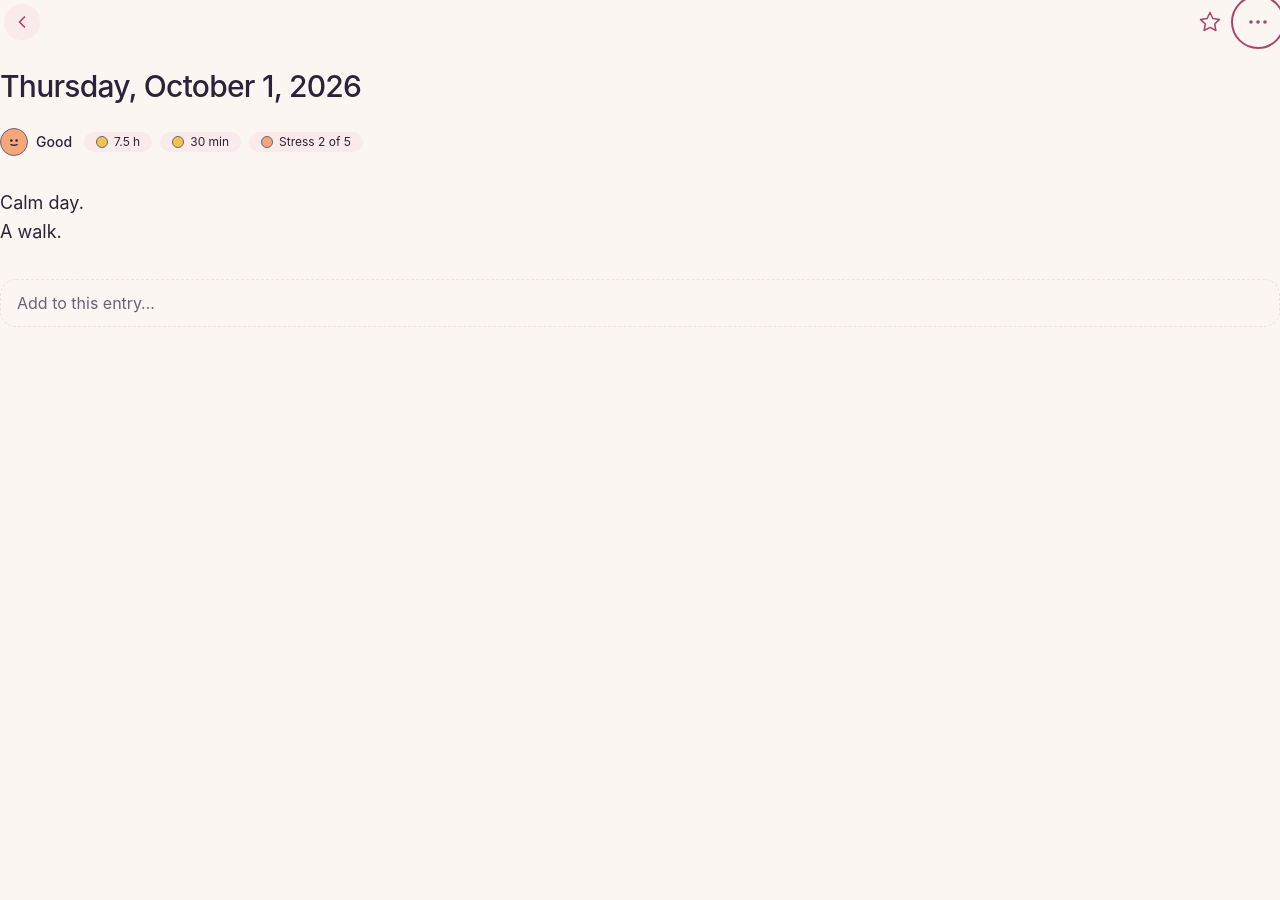
EntryScreen: the view › ⋯ → Delete, then Cancel or Esc: focus is back on ⋯, never on the page (a11y pass, 1.0)
Click the button with test id "entry-more". click: (1258, 22)
box: [1236,0,1279,44]
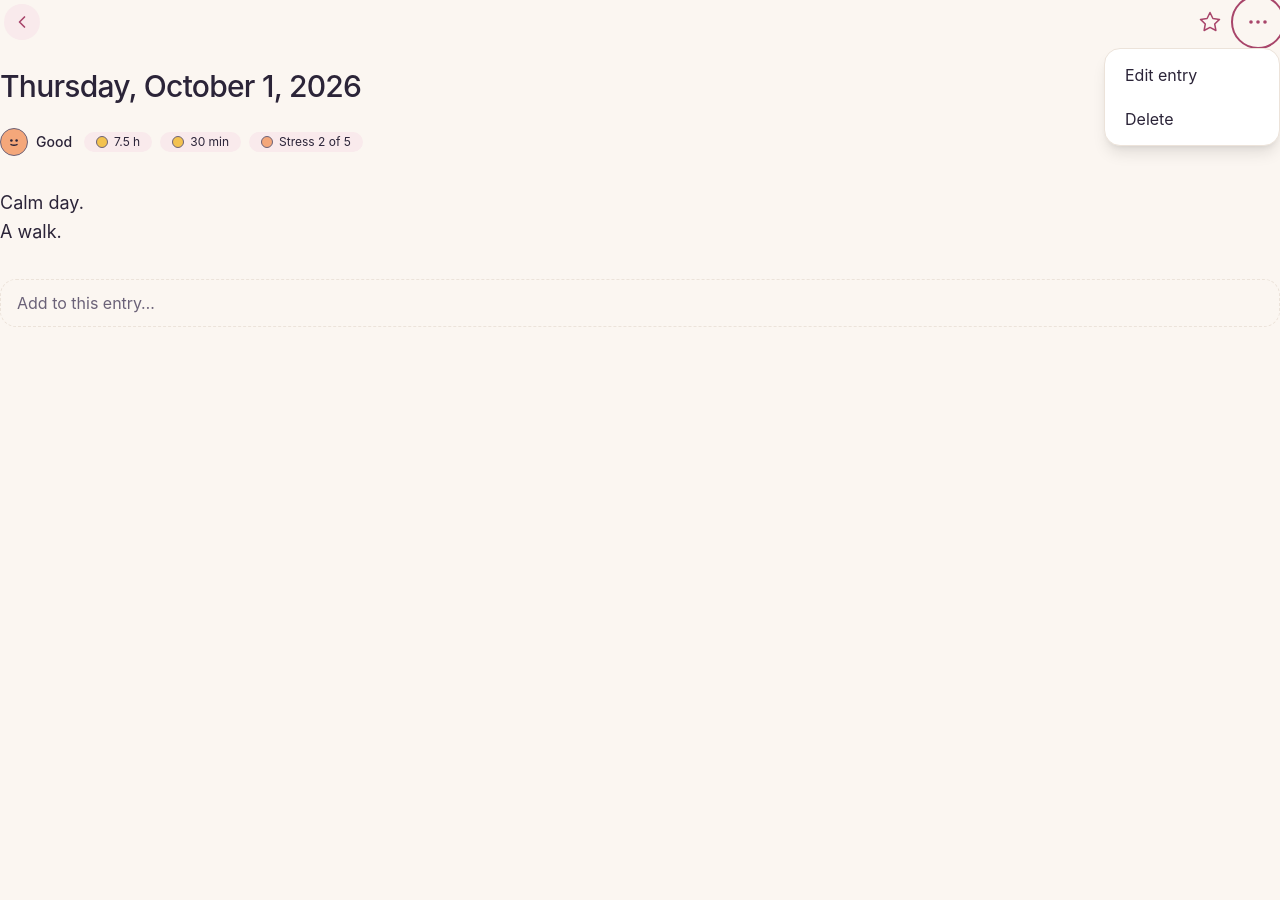
Click the button with test id "entry-menu-delete". click: (1192, 119)
box: [1109,97,1275,141]
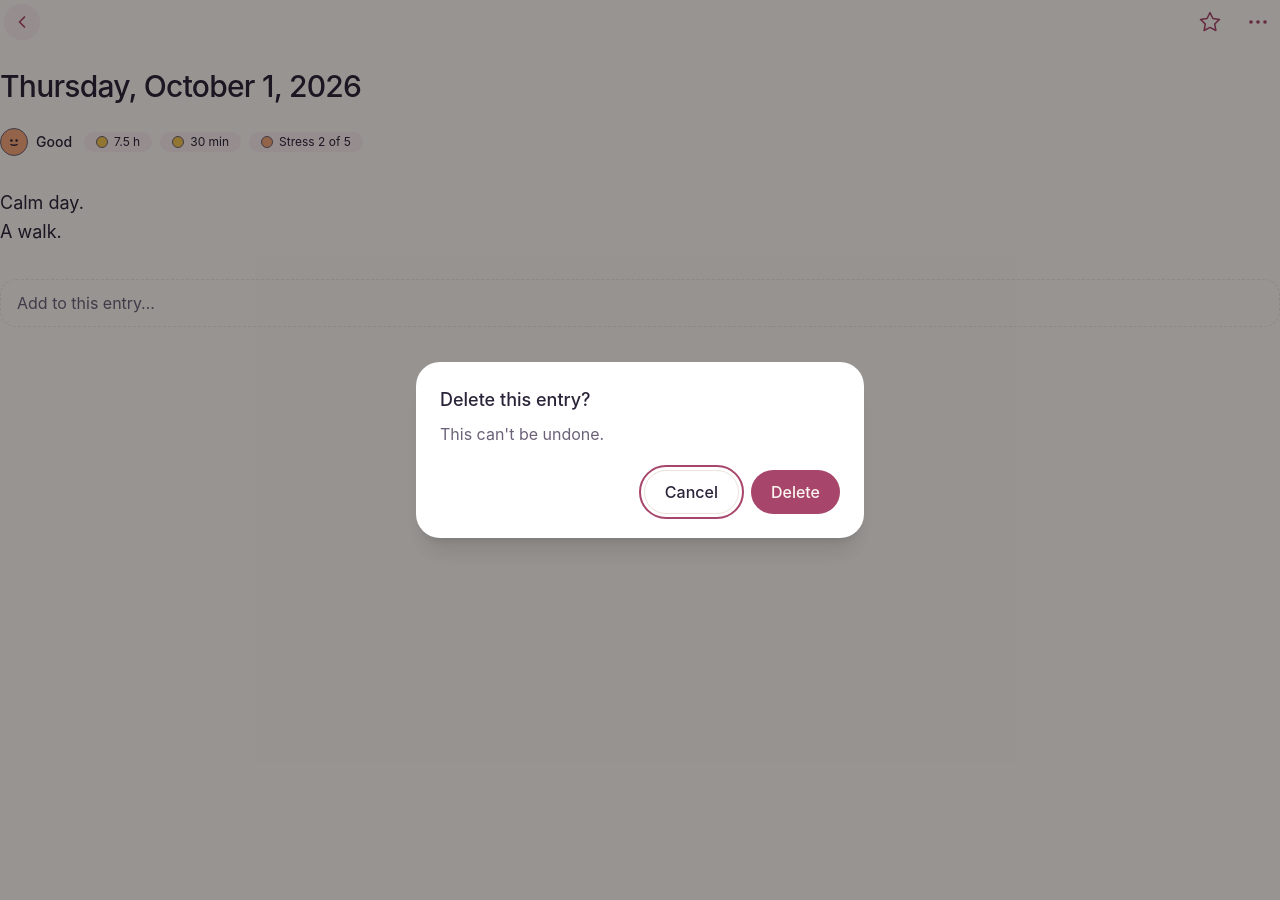
Check: the dialog with test id "entry-delete-dialog" is shown, box [416,362,864,538]
Click the button with test id "entry-delete-cancel". click: (691, 492)
box: [644,470,739,514]
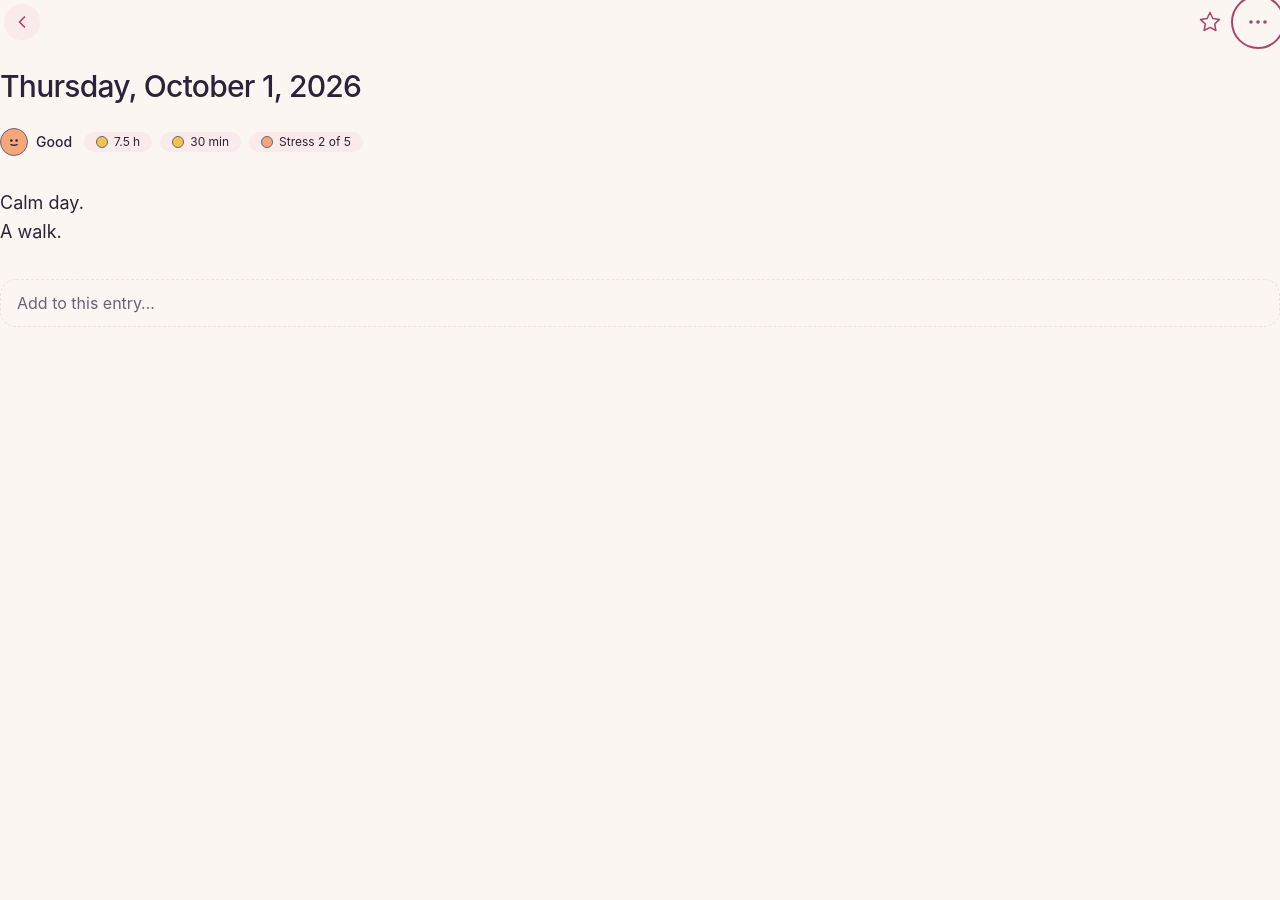
Check: the dialog with test id "entry-delete-dialog" is gone
Click the button with test id "entry-more". click: (1258, 22)
box: [1236,0,1279,44]
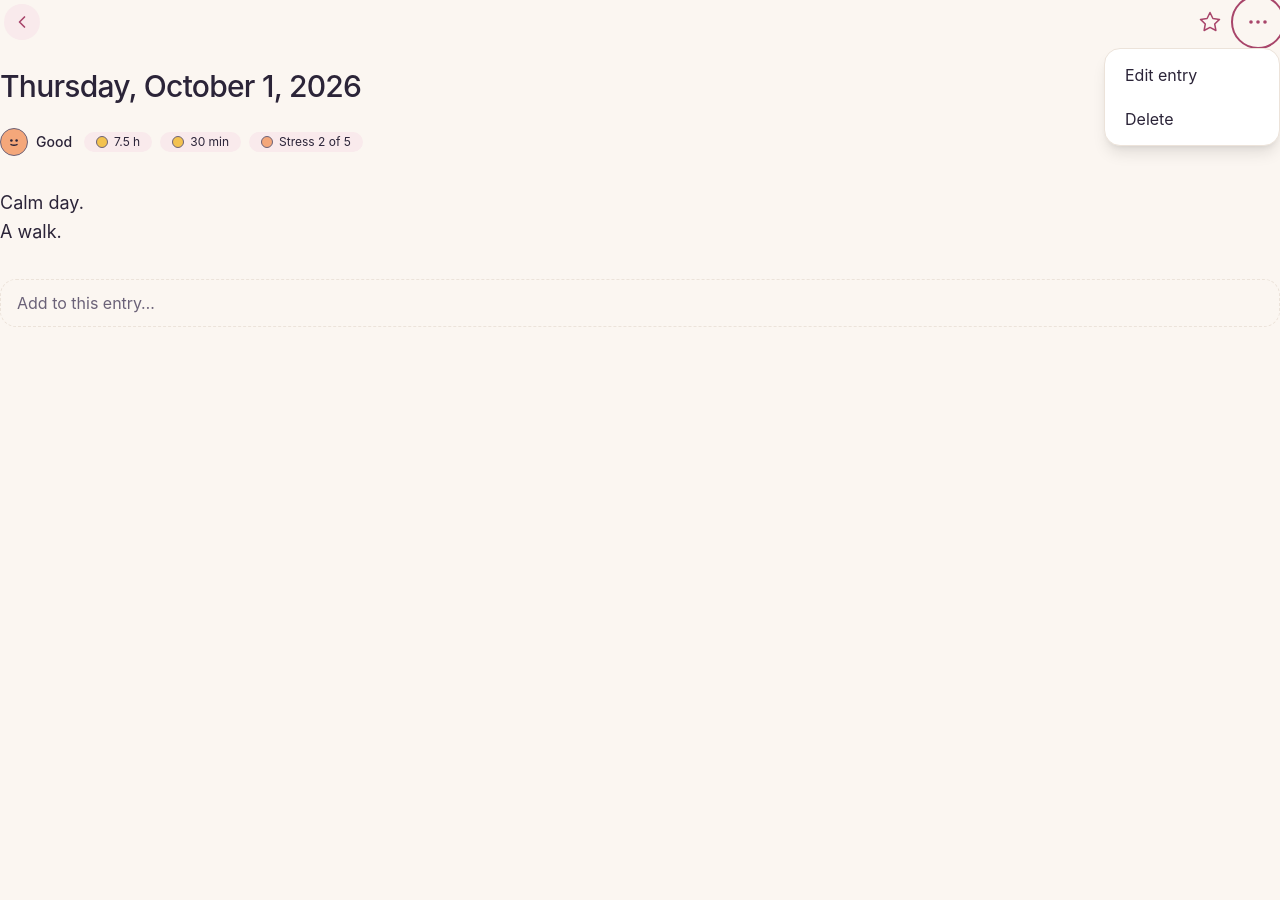
Click the button with test id "entry-menu-delete". click: (1192, 119)
box: [1109,97,1275,141]
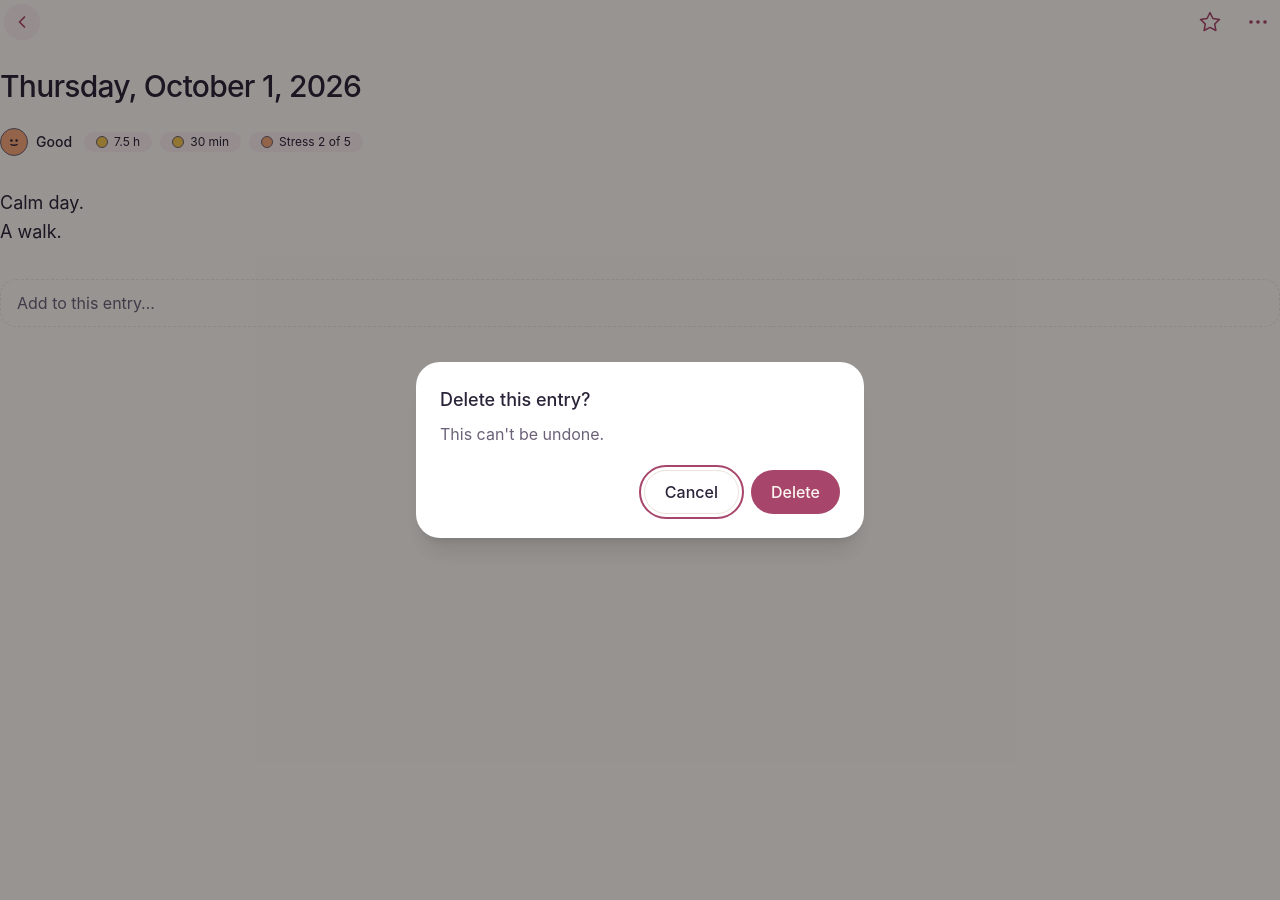
Check: the dialog with test id "entry-delete-dialog" is shown, box [416,362,864,538]
Press Escape
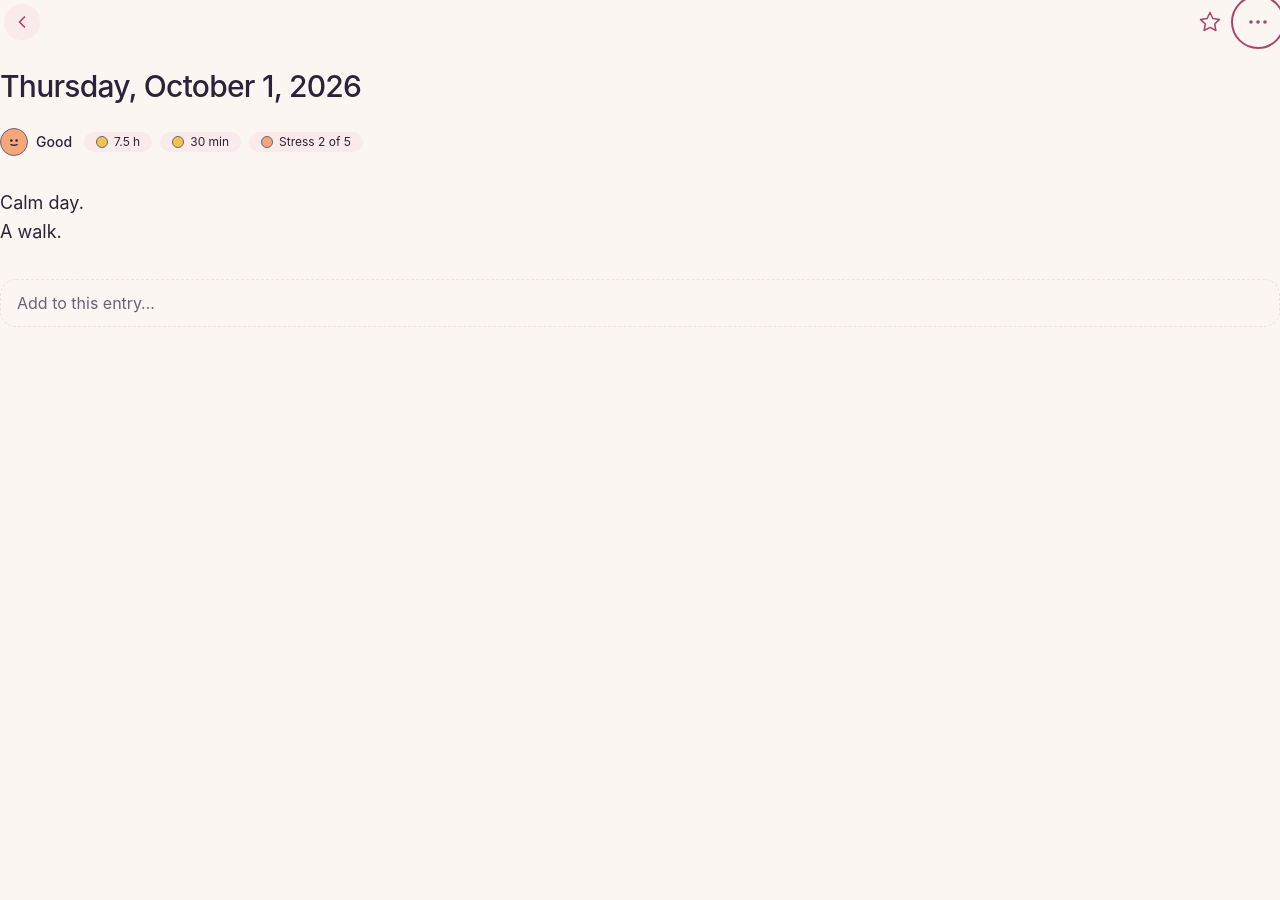
Check: the dialog with test id "entry-delete-dialog" is gone
